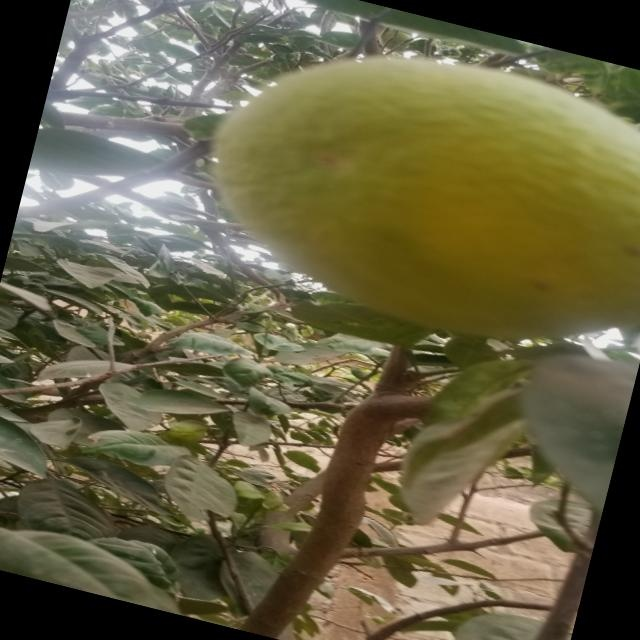agrume: (159, 0, 640, 393)
